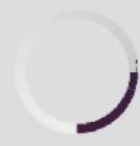ProgressBar: (1, 1, 139, 145)
